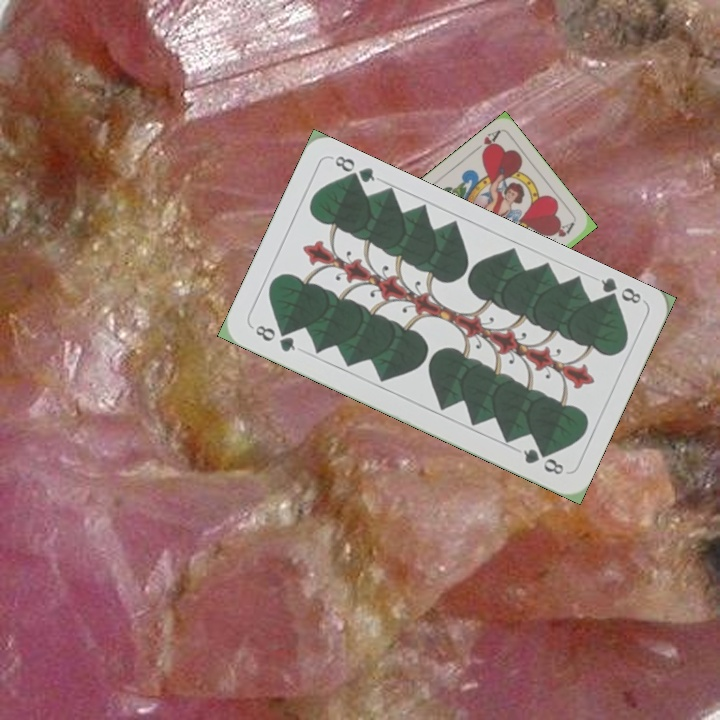G8: (248, 321, 298, 355), (596, 273, 644, 308)
HA: (467, 127, 502, 158)
